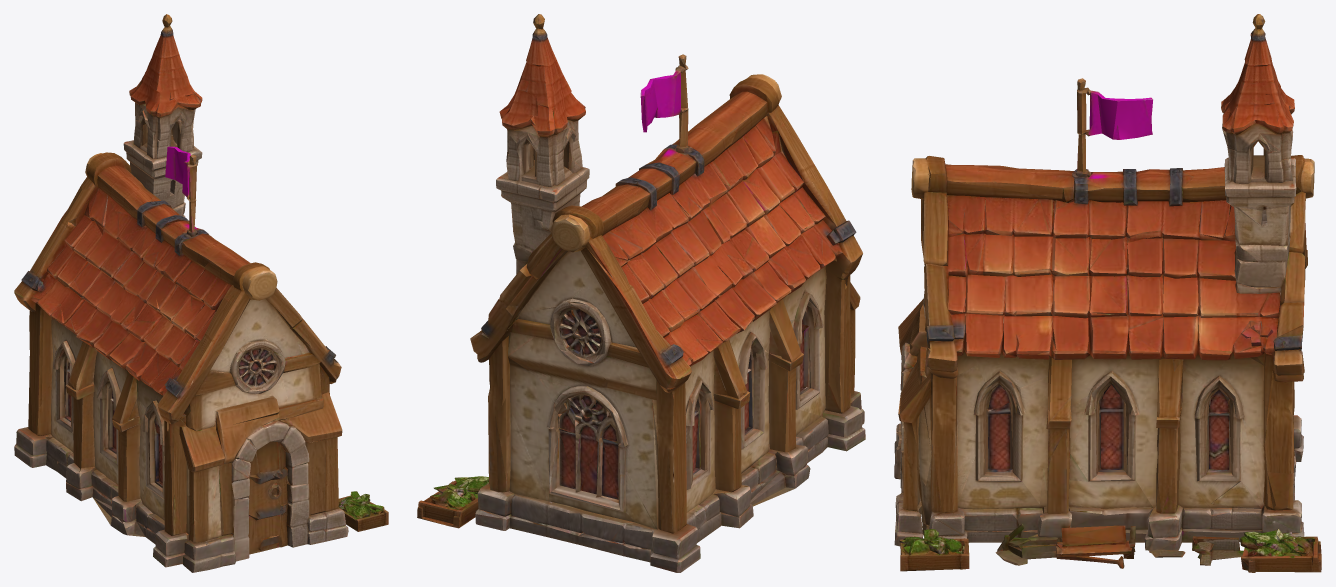
The model's file is chapel2.glb.
The picture shows the model from 3 angles, left to right: view 1: azimuth 30°, elevation 25°; view 2: azimuth 150°, elevation 25°; view 3: azimuth 270°, elevation 25°; orthographic projection. The views are drawn at different scales.
Parts seen in each view (by area): view 1: Mesh_0; view 2: Mesh_0; view 3: Mesh_0.
Part boxes in pixels (x1=…): Mesh_0: x1=14, y1=14, x2=388, y2=572; Mesh_0: x1=417, y1=14, x2=865, y2=572; Mesh_0: x1=894, y1=14, x2=1321, y2=572.
Bounding box in the file's own units: 1.01 × 1.9 × 1.43.
Materials: 1 (1 with a texture image).
